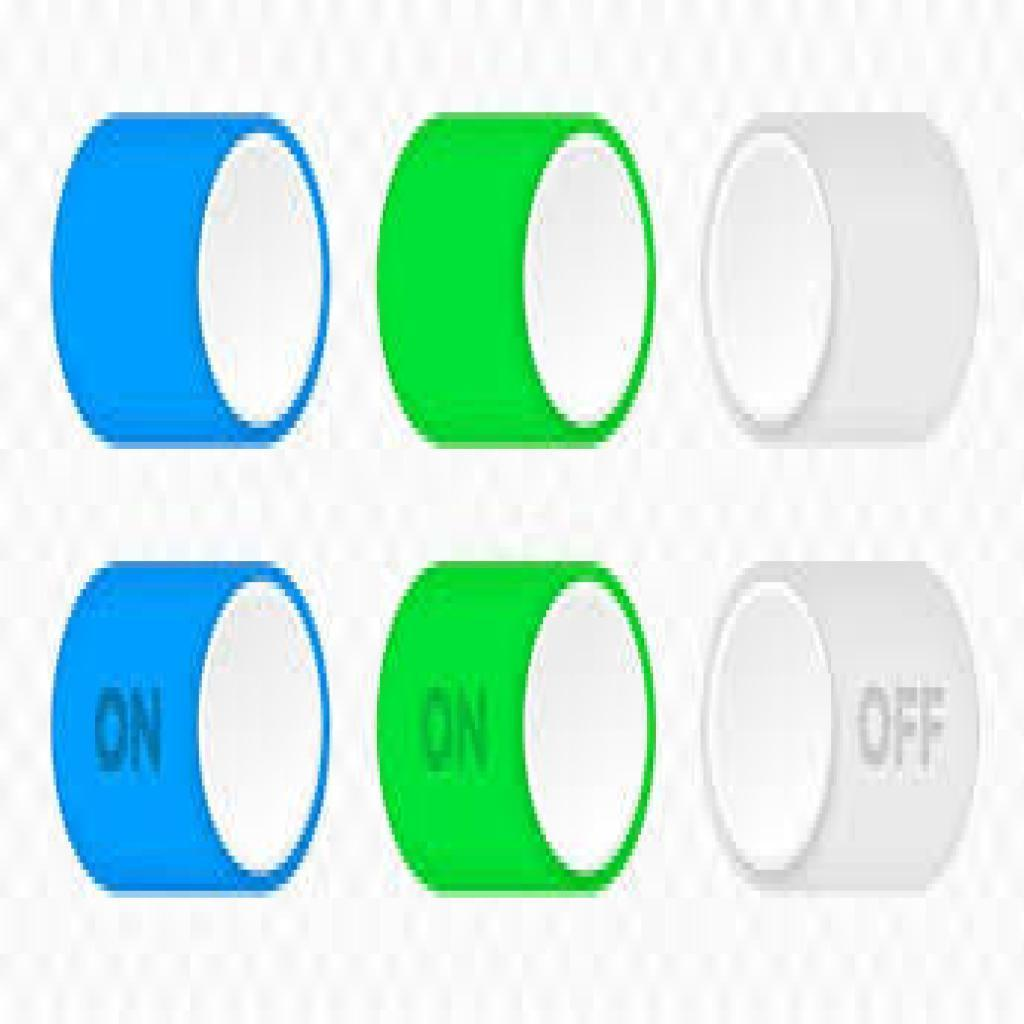switch: (693, 555, 983, 899), (371, 114, 661, 446), (700, 111, 986, 447), (57, 563, 334, 904), (376, 560, 655, 897), (56, 117, 337, 451)
